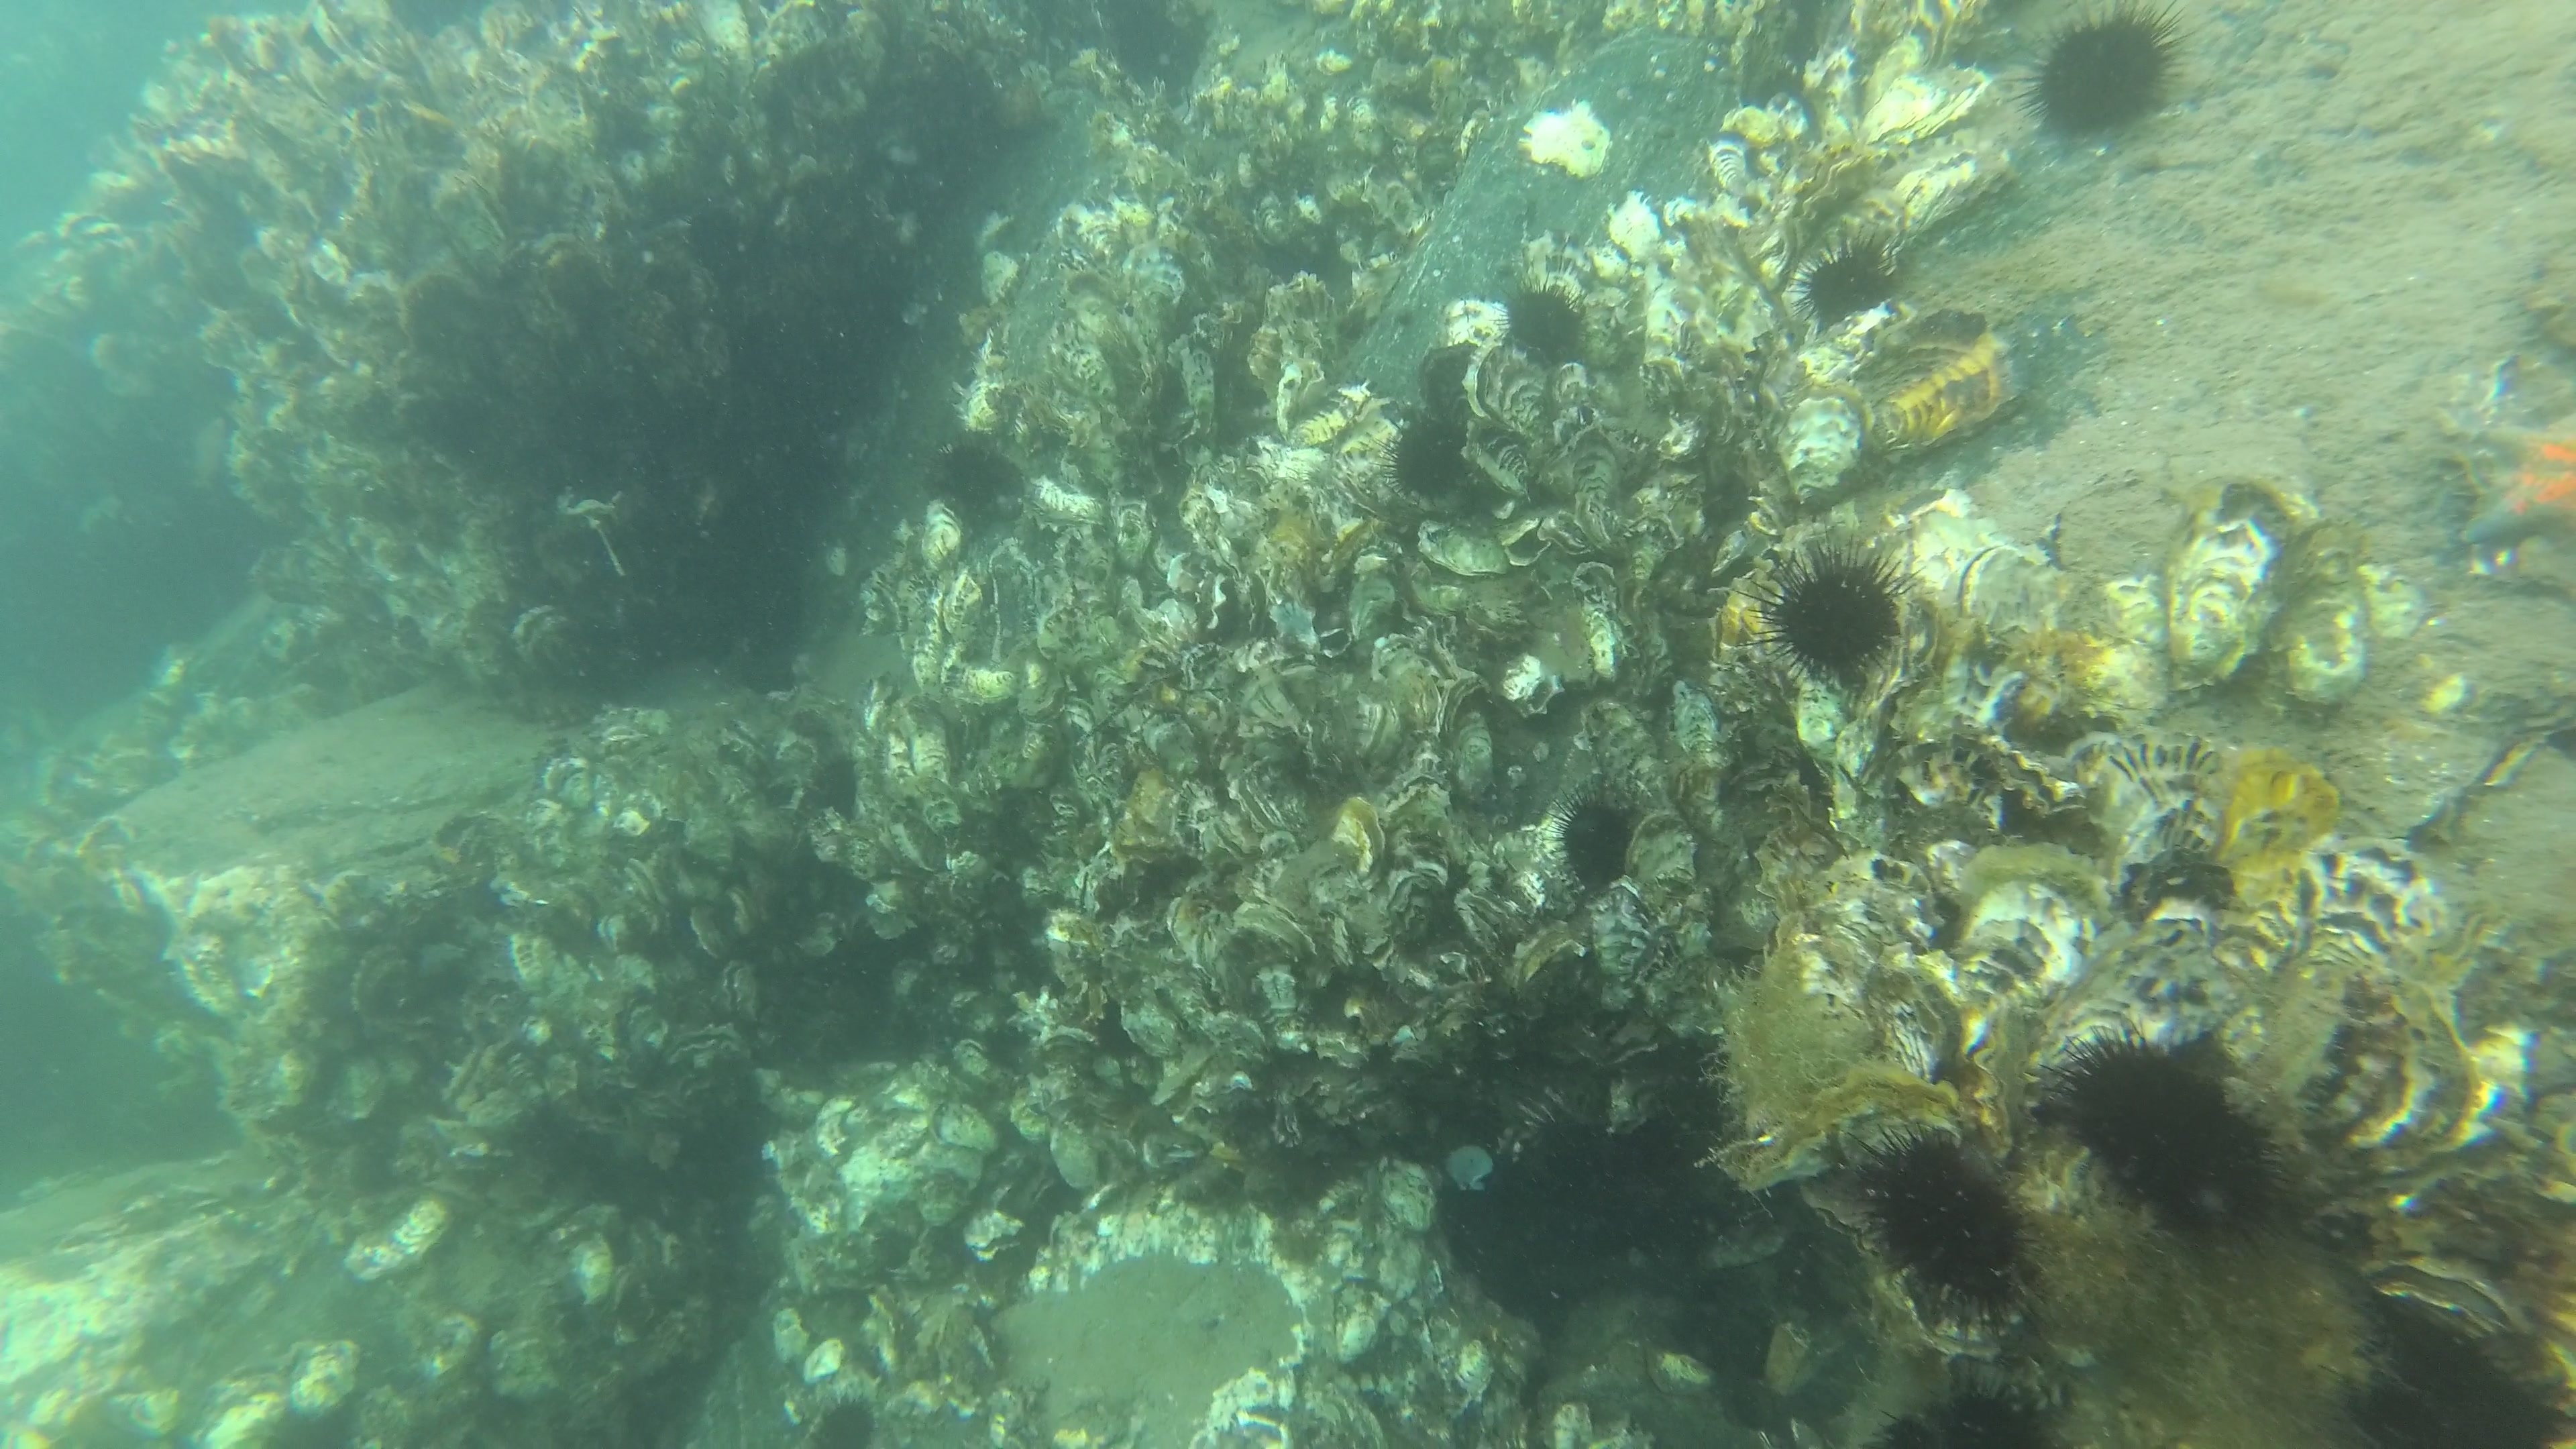echinus: (2028, 1031, 2295, 1258), (1840, 1118, 2051, 1348), (2325, 1307, 2574, 1449), (1743, 525, 1918, 706), (2019, 9, 2196, 152), (1539, 766, 1654, 901), (1488, 265, 1599, 375), (918, 421, 1039, 522), (1790, 237, 1909, 333), (1378, 400, 1483, 508)
starfish: (2450, 398, 2576, 557)
